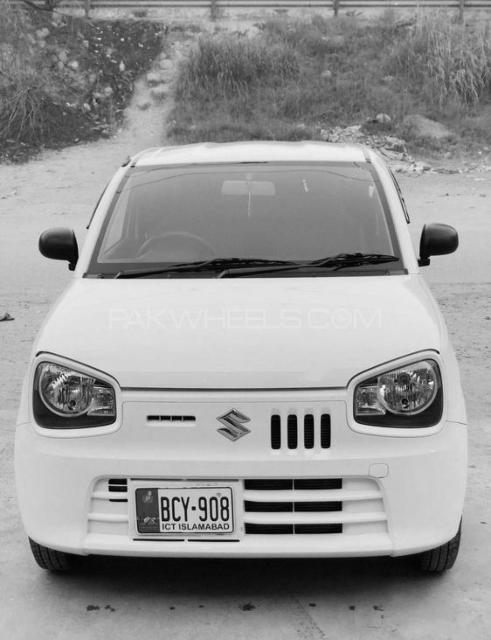Number: (160, 497, 234, 525)
